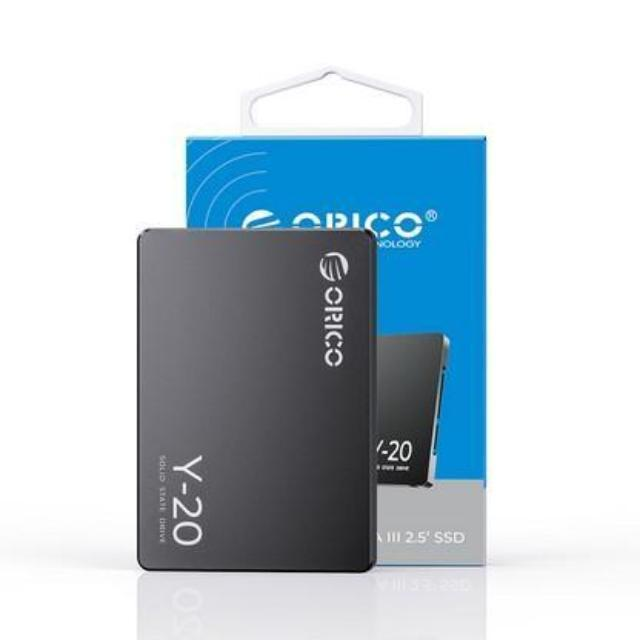DISK: (128, 212, 388, 583)
